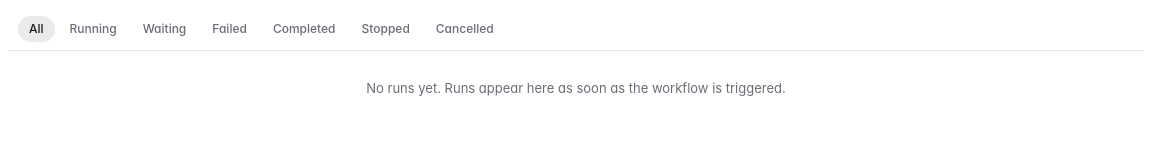
Test: RunList: staying current › drops a run that no longer matches the filter
Check: the text "No runs yet" is shown, box [366,80,786,96]
Click the button "Waiting" at [164, 29], box [132,16,197,42]
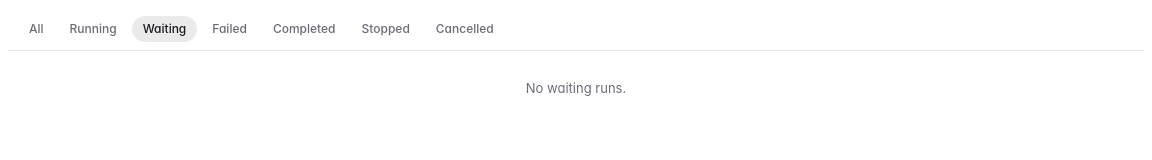
Check: the text "No waiting runs." is shown, box [526,80,626,96]
